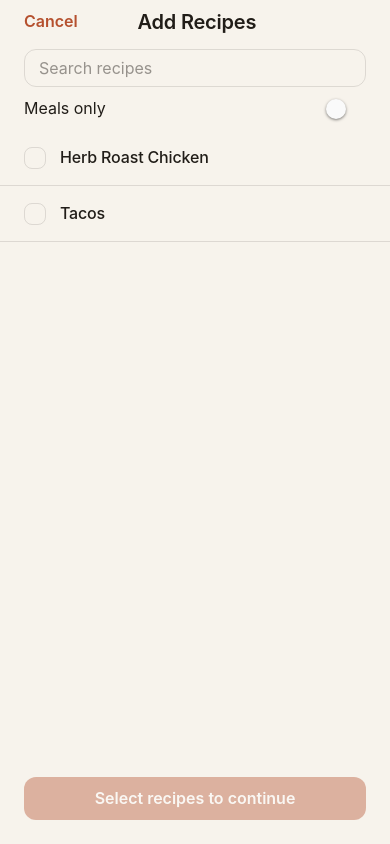
it: disables Next until at least one recipe is selected, then advances to the servings step
expect the text "Herb Roast Chicken" is shown: met, box x1=60 y1=147 x2=209 y2=167
expect the button with test id "add-to-this-week-next" is disabled: met, box x1=24 y1=777 x2=366 y2=820
Click the checkbox with test id "add-to-this-week-recipe-r1" at (195, 158), box x1=0 y1=130 x2=389 y2=186
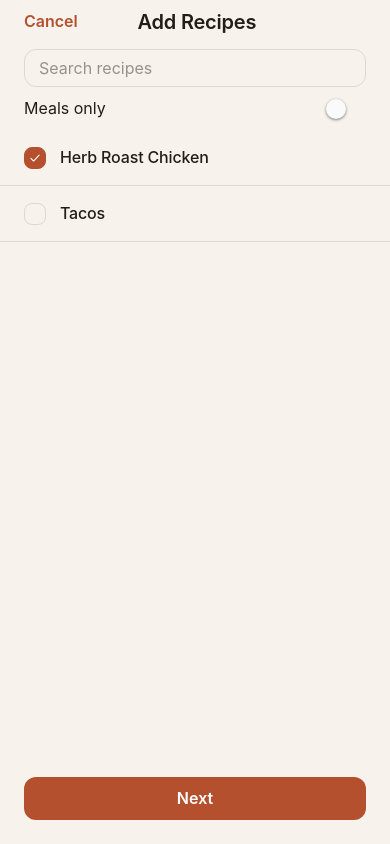
expect the button with test id "add-to-this-week-next" is enabled: met
Click the button with test id "add-to-this-week-next" at (195, 798), box x1=24 y1=777 x2=366 y2=820
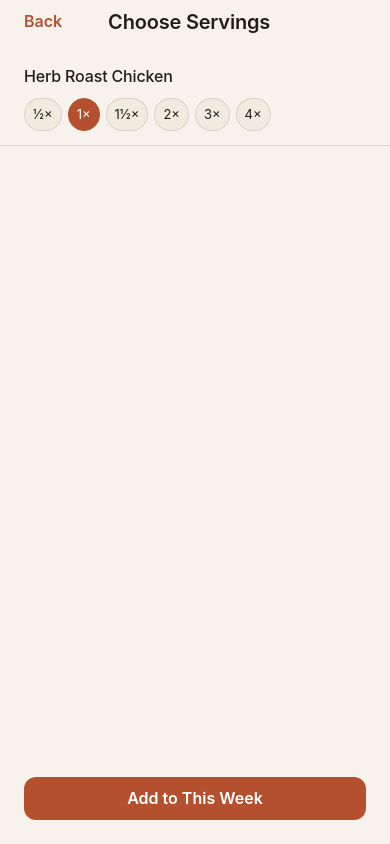
expect the text "Choose Servings" is shown: met, box x1=108 y1=10 x2=270 y2=34
expect the element with test id "add-to-this-week-servings-r1" is shown: met, box x1=0 y1=49 x2=389 y2=146
